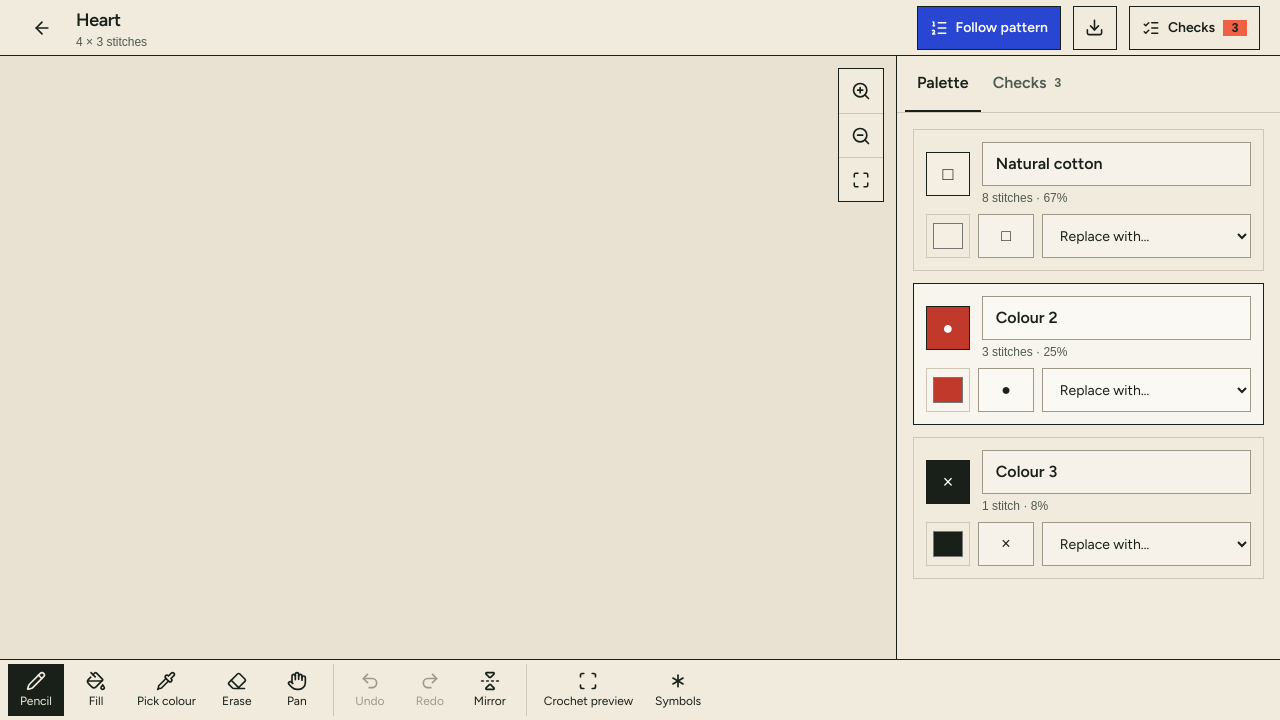
Test: PatternEditor › opens follow mode and saves row progress through the project
Click the button "Follow pattern": x=989, y=28 [917,6,1061,50]
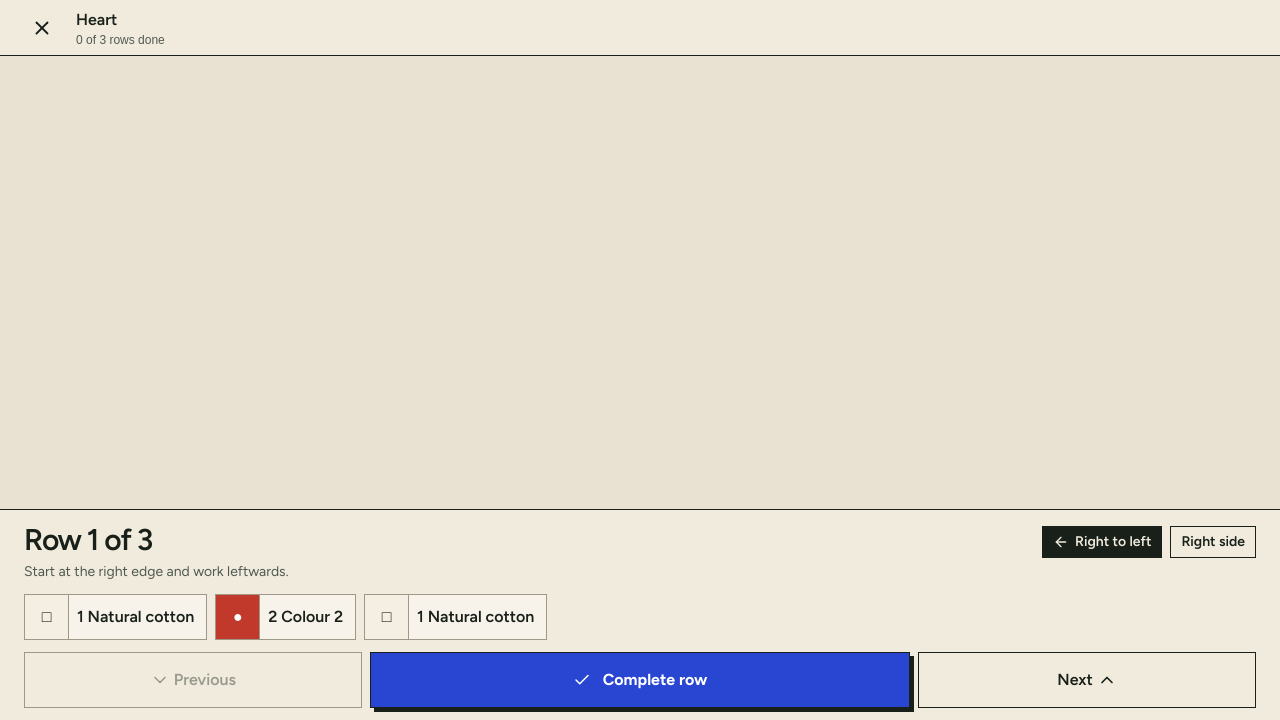
Expected: the heading "Row 1 of 3" is shown, [24,522,152,558]
Click the button with aria-label "Complete row 1": x=640, y=680 [370,652,910,708]
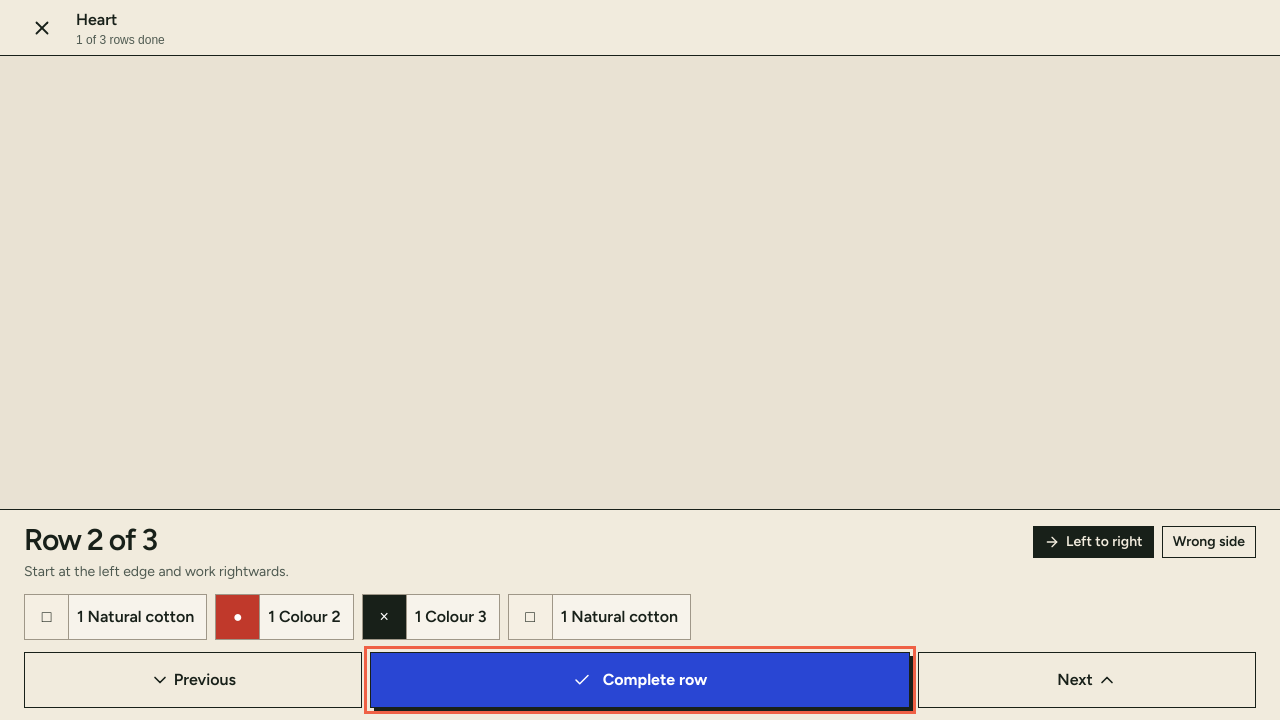
Click the button named "Back to editor": x=42, y=28 [20,6,64,50]
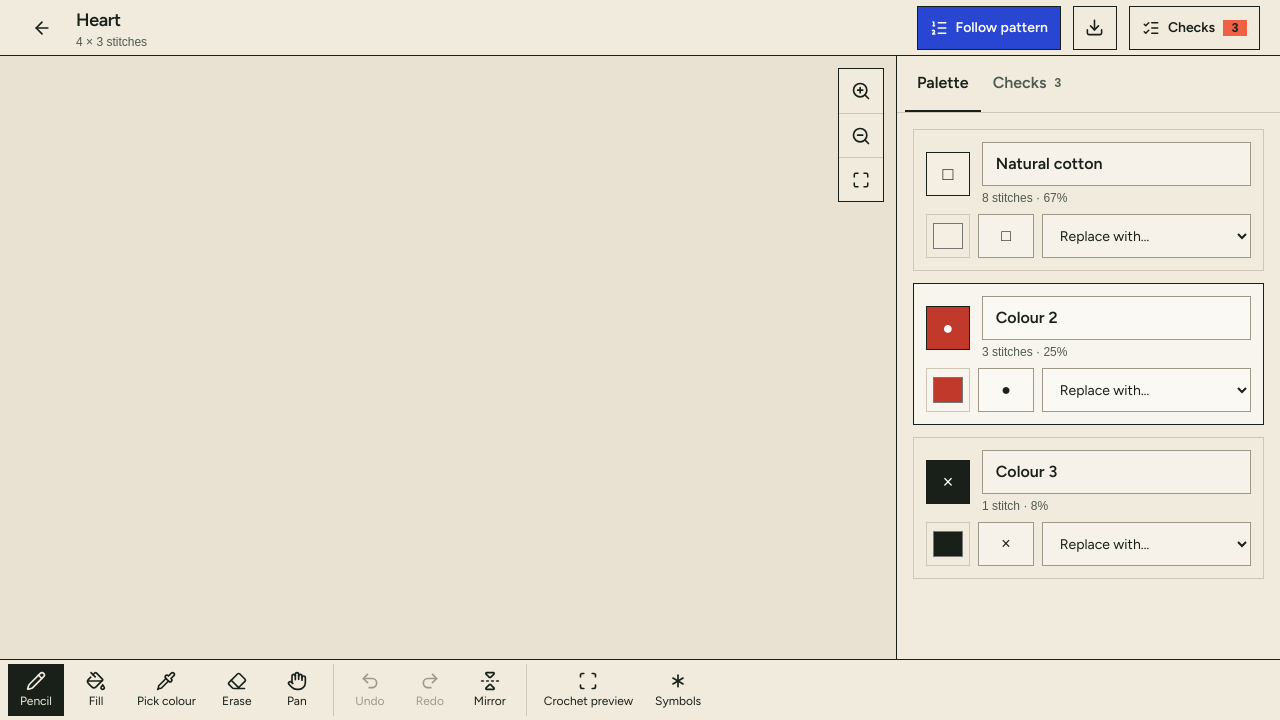
Expected: the button "Undo" is disabled, [342,664,398,716]
Expected: the heading "Row 2 of 3" is gone
